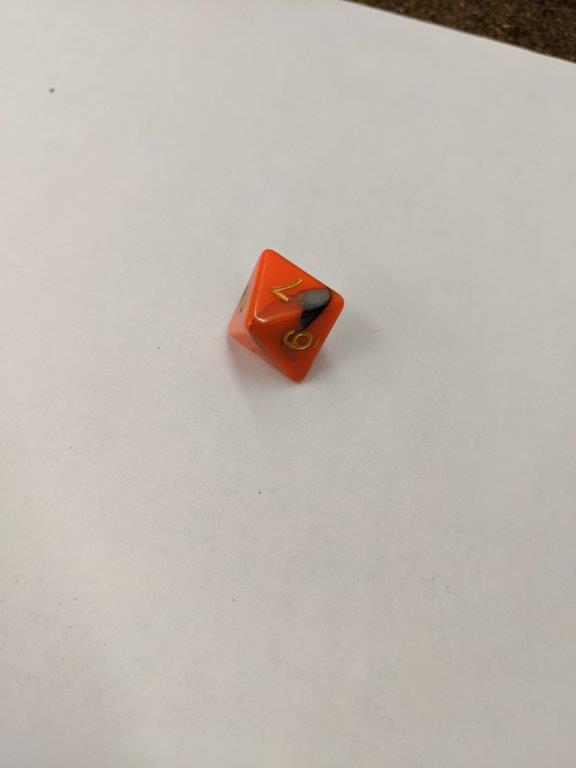d8-7: (225, 247, 349, 387)
